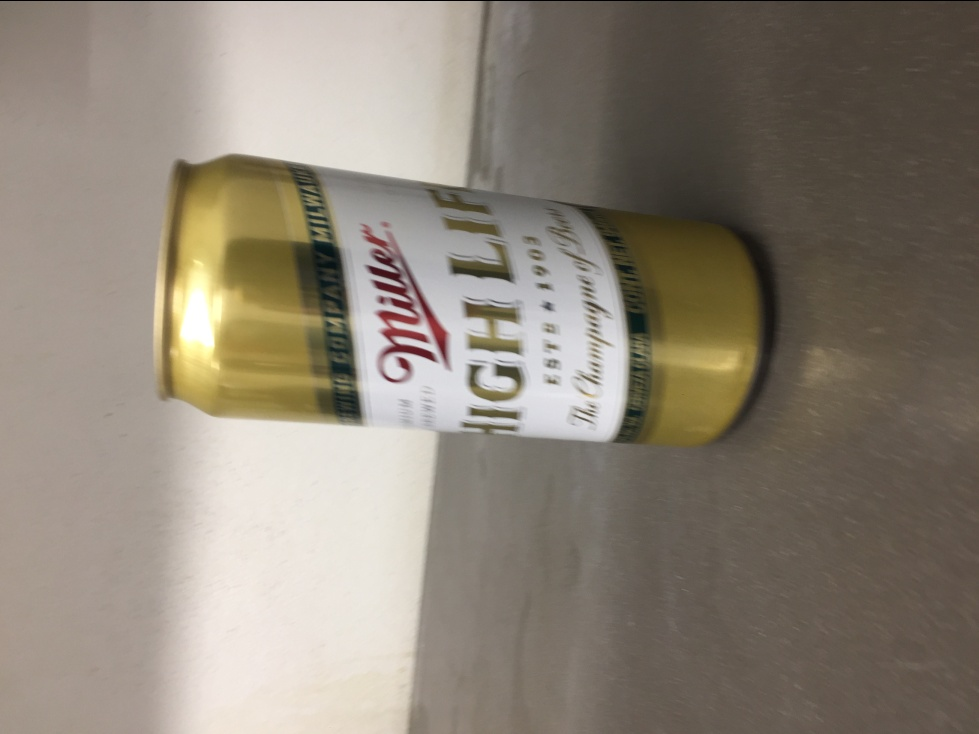miller: (154, 150, 774, 458)
